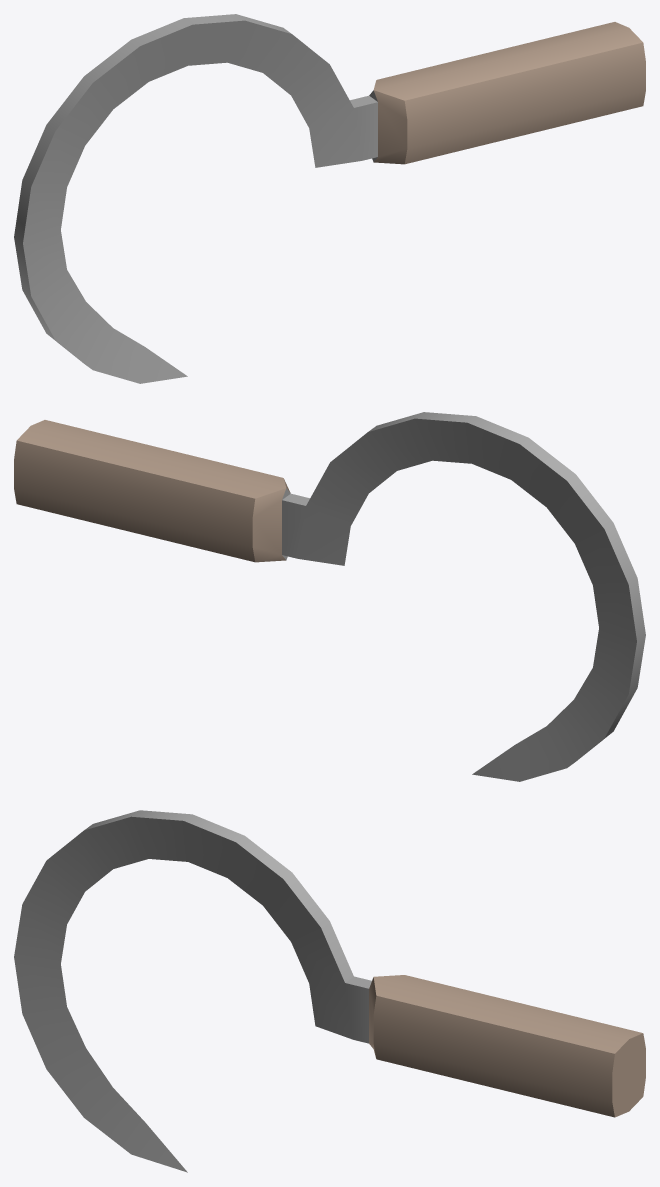
Rendered from CorteLLantaCasanja_MDL.fbx.
The picture shows the model from 3 angles, top to bottom: view 1: azimuth 30°, elevation 25°; view 2: azimuth 150°, elevation 25°; view 3: azimuth 330°, elevation 25°; orthographic projection.
Visible parts, largest first — view 1: pPipe1; view 2: pPipe1; view 3: pPipe1.
Part boxes in pixels (left/top/right/bottom): pPipe1: left=14, top=14, right=645, bottom=383; pPipe1: left=14, top=412, right=645, bottom=781; pPipe1: left=14, top=810, right=645, bottom=1172.
Size of the model in its own units: 0.1356 by 0.0754 by 0.0129.
